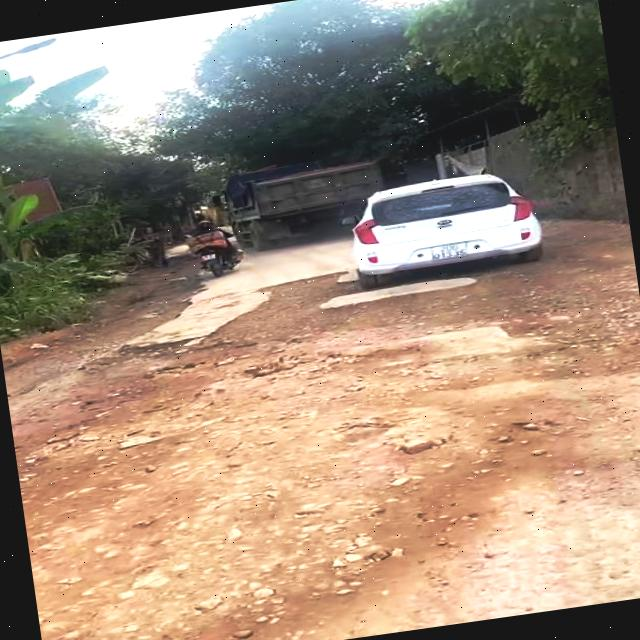pothole: (1, 306, 344, 464), (389, 244, 640, 403), (198, 260, 393, 376)
